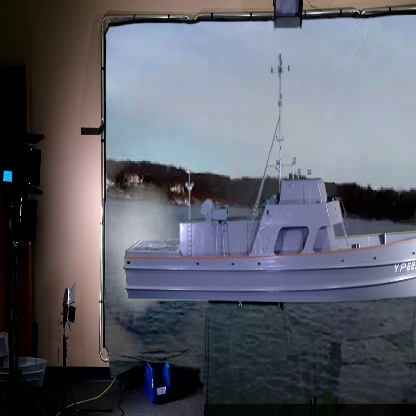YP689: (121, 54, 416, 299)
